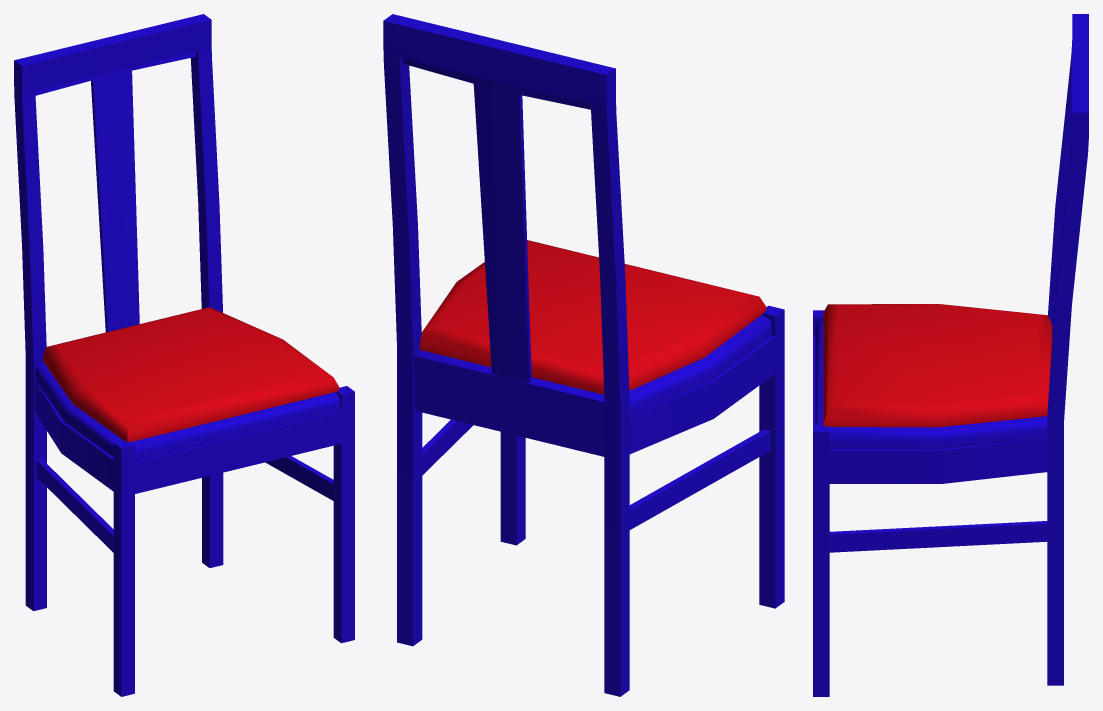
Rendered from chair_red.fbx.
The picture shows the model from 3 angles, left to right: view 1: azimuth 30°, elevation 25°; view 2: azimuth 150°, elevation 25°; view 3: azimuth 270°, elevation 25°; orthographic projection. The views are drawn at different scales.
Parts seen in each view (by area): view 1: Cube.021; view 2: Cube.021; view 3: Cube.021.
Boxes of the visible parts, x1,y1,x2,y2 form: Cube.021: [14, 14, 354, 696]; Cube.021: [383, 14, 784, 696]; Cube.021: [813, 14, 1088, 696].
Bounding box in the file's own units: 276 × 608 × 265.
